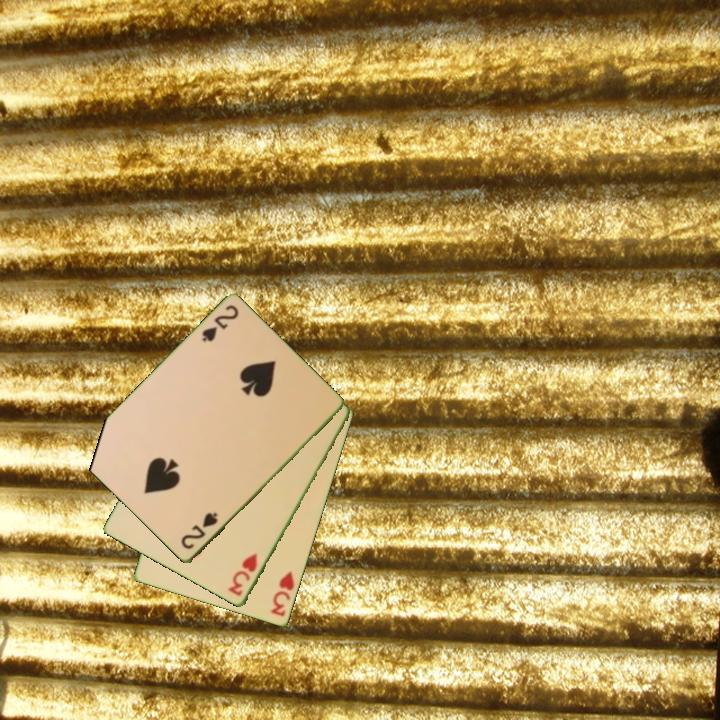2s: (177, 509, 221, 553), (198, 302, 242, 345)
3h: (224, 550, 260, 600), (267, 567, 297, 620)
